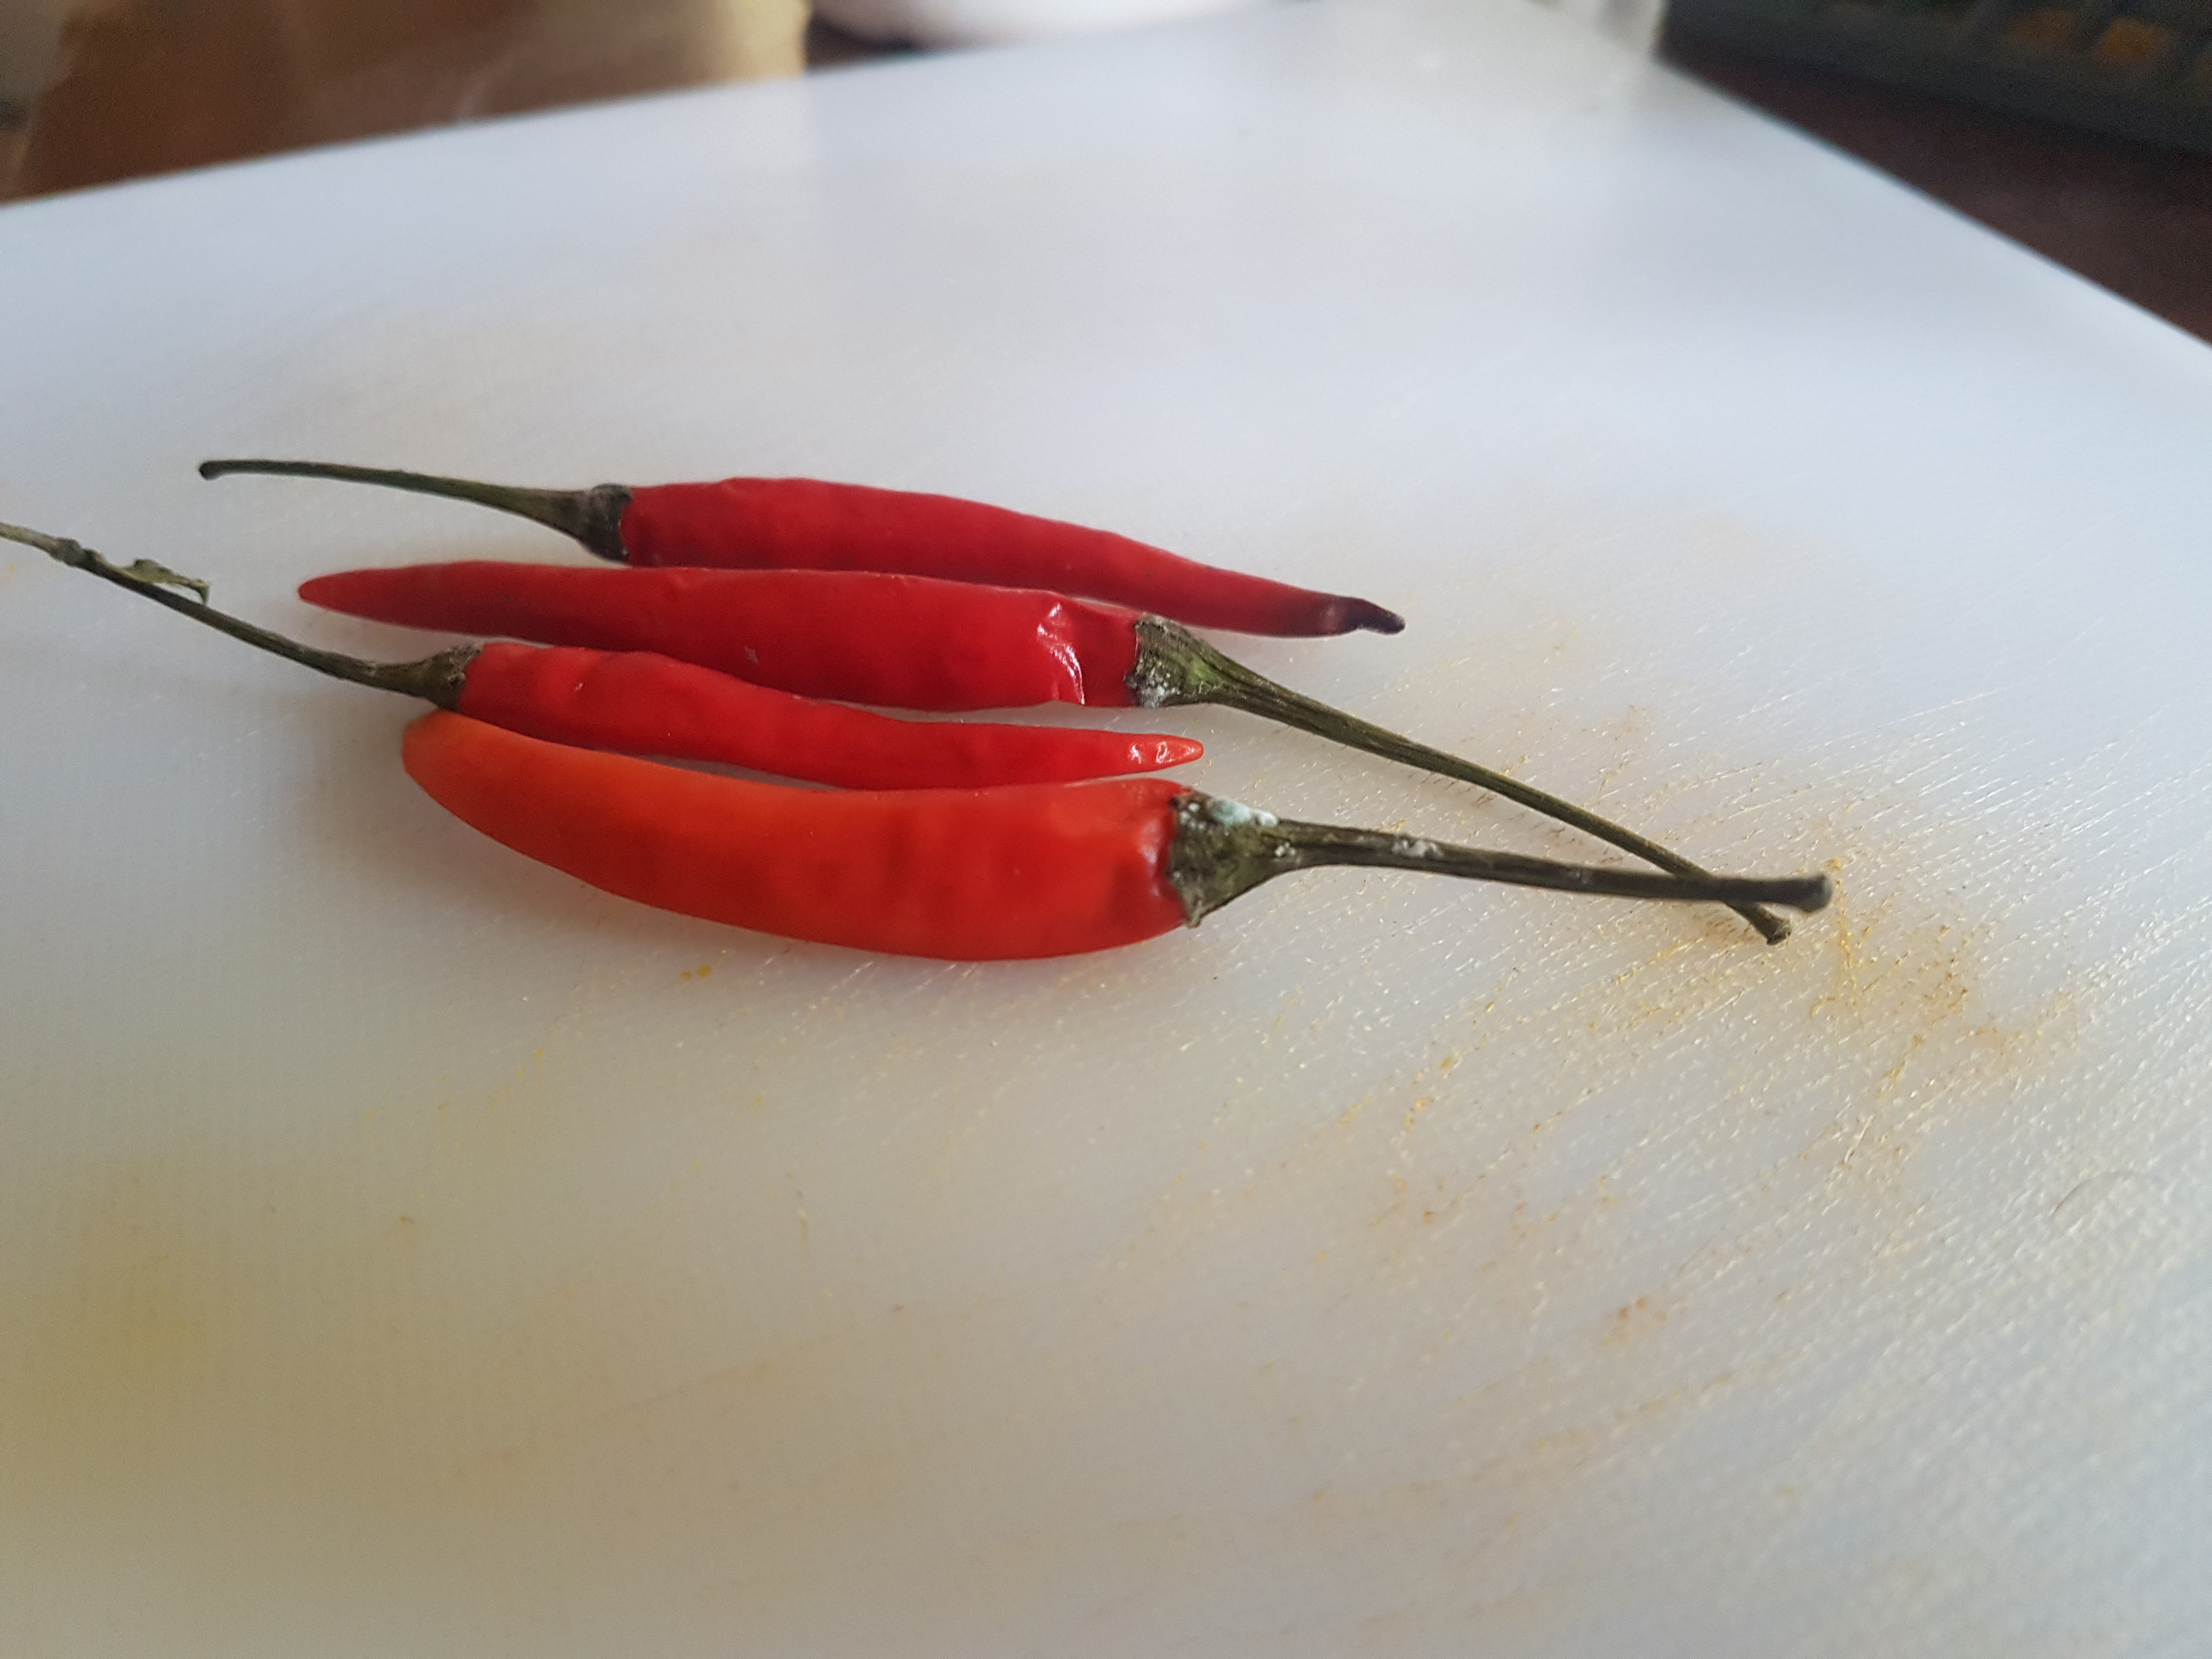Cayenne pepper: (2, 444, 1857, 1044)
